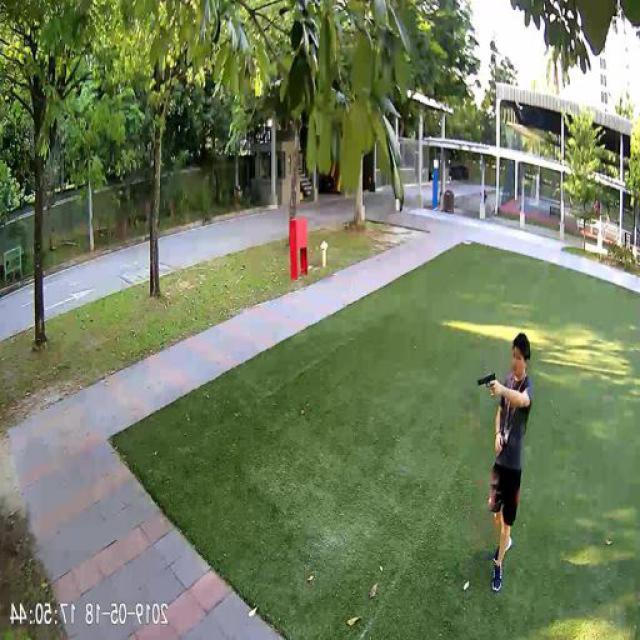weapon: (474, 371, 500, 396)
